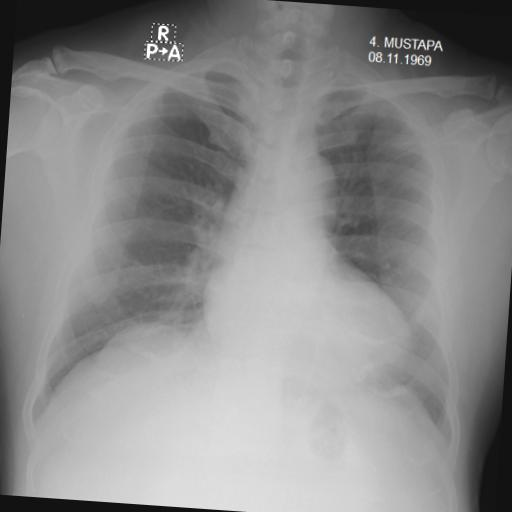kardiomegali: (12, 16, 490, 457)
